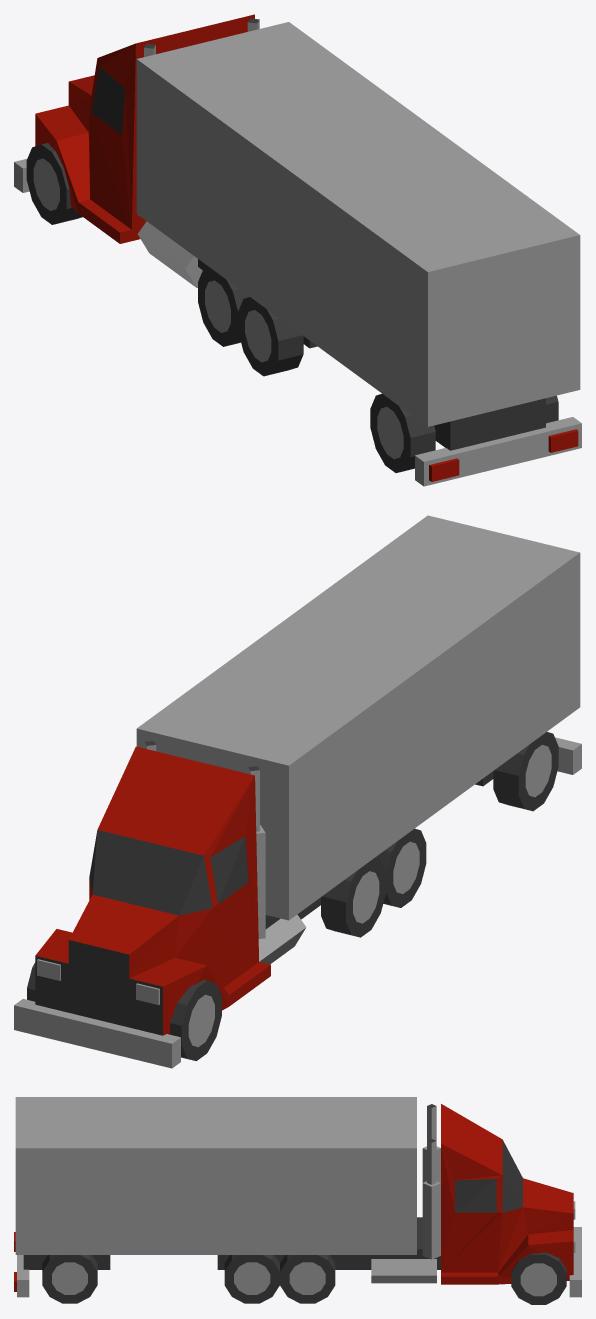
File: truck.obj
The picture shows the model from 3 angles, top to bottom: view 1: azimuth 30°, elevation 25°; view 2: azimuth 150°, elevation 25°; view 3: azimuth 270°, elevation 25°; orthographic projection. The views are drawn at different scales.
Parts seen in each view (by area): view 1: cylinder_Shape_IndexedFaceSet, cube_Shape_IndexedFaceSet, cube3_Shape_IndexedFaceSet; view 2: cylinder_Shape_IndexedFaceSet, cube_Shape_IndexedFaceSet, cube3_Shape_IndexedFaceSet; view 3: cylinder_Shape_IndexedFaceSet, cube_Shape_IndexedFaceSet, cube3_Shape_IndexedFaceSet.
Boxes of the visible parts, x1=… form: cylinder_Shape_IndexedFaceSet: x1=14, y1=20, x2=581, y2=486; cube_Shape_IndexedFaceSet: x1=35, y1=14, x2=578, y2=481; cube3_Shape_IndexedFaceSet: x1=26, y1=18, x2=558, y2=472; cylinder_Shape_IndexedFaceSet: x1=14, y1=515, x2=581, y2=1068; cube_Shape_IndexedFaceSet: x1=35, y1=746, x2=270, y2=1035; cube3_Shape_IndexedFaceSet: x1=27, y1=732, x2=558, y2=1061; cylinder_Shape_IndexedFaceSet: x1=15, y1=1097, x2=581, y2=1297; cube_Shape_IndexedFaceSet: x1=14, y1=1104, x2=573, y2=1291; cube3_Shape_IndexedFaceSet: x1=23, y1=1104, x2=566, y2=1304.
Size of the model in its own units: 20.88 by 28.58 by 94.24.
